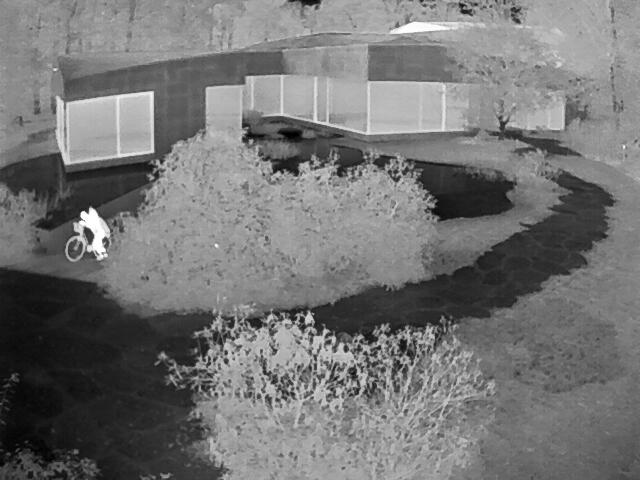person: (77, 207, 105, 259)
